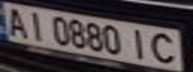0: (45, 13, 72, 46), (103, 22, 127, 56)
8: (84, 20, 106, 53), (66, 17, 87, 50)
A: (0, 4, 30, 38)
C: (145, 29, 184, 65)
I: (124, 26, 154, 61), (21, 9, 51, 42)
